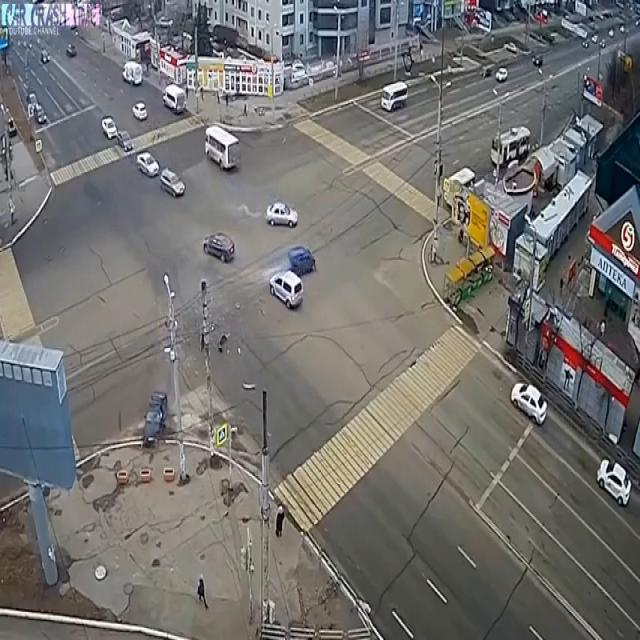Accident: (256, 229, 319, 328), (140, 349, 177, 460)
